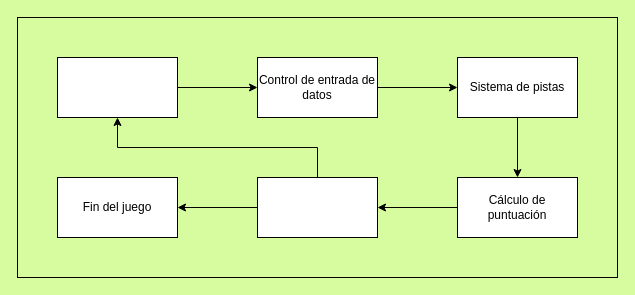
Some shapes in this 635 by 295 pixel diagram are drawn without their labels. The shapes that lost their labels are listed below. From the top down, each one's centre as x and y in pixels, then its label:
pixel 117 87: Menú juego
pixel 317 207: Petición de repetir el juego
